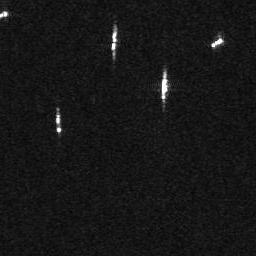ship: (159, 71, 171, 101), (108, 29, 119, 56), (54, 112, 62, 134), (211, 36, 223, 48)
